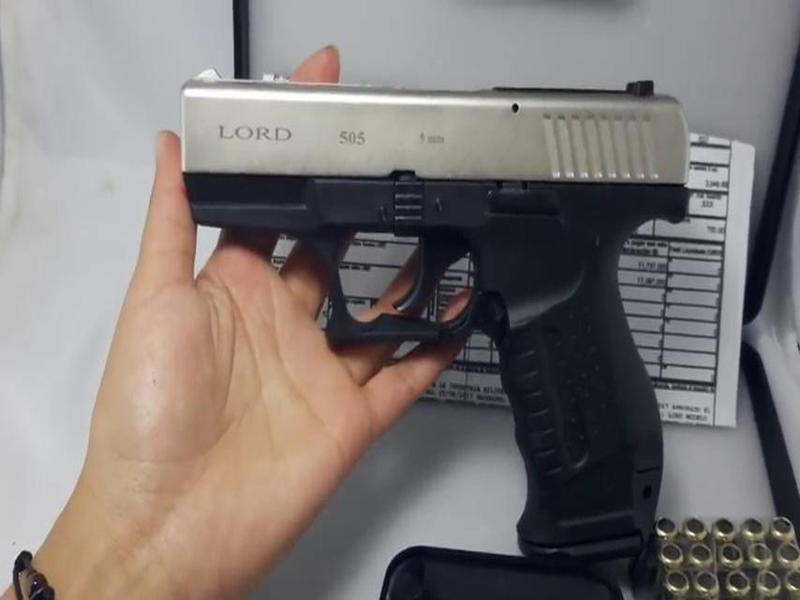Pistola: (145, 44, 717, 539)
